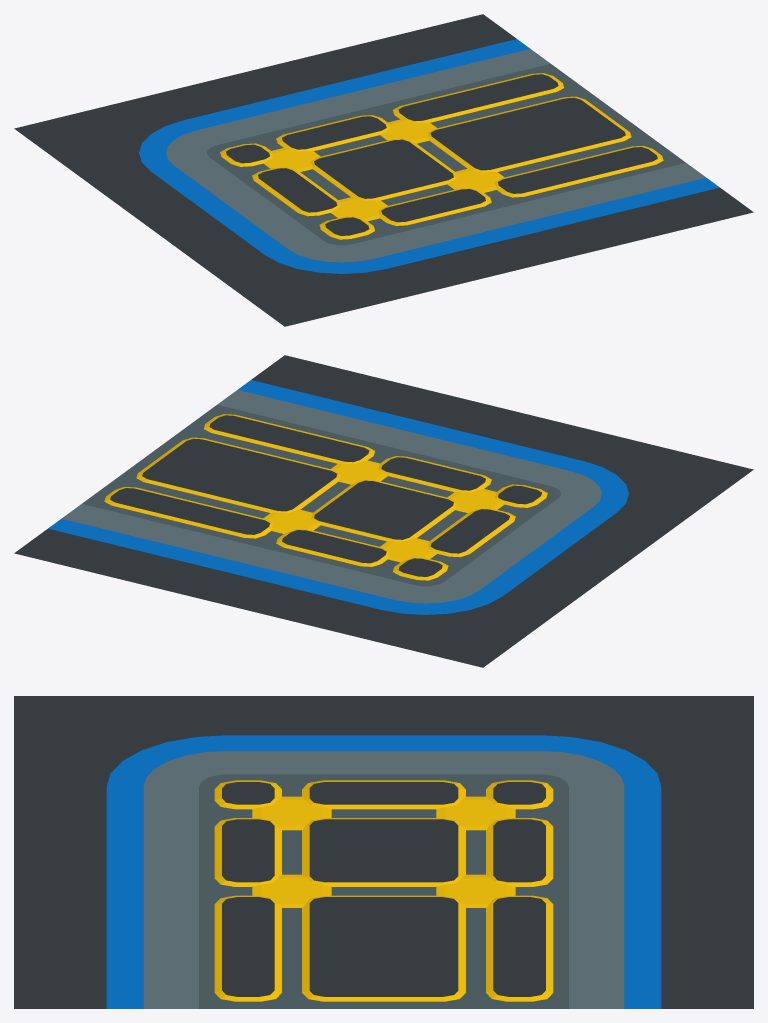
File: Floor_type_C_018.glb
The picture shows the model from 3 angles, top to bottom: view 1: azimuth 30°, elevation 25°; view 2: azimuth 150°, elevation 25°; view 3: azimuth 270°, elevation 25°; orthographic projection. The views are drawn at different scales.
Parts seen in each view (by area): view 1: Floor_type_C_018; view 2: Floor_type_C_018; view 3: Floor_type_C_018.
Boxes of the visible parts, <box> form: Floor_type_C_018: <box>14,14,753,326</box>; Floor_type_C_018: <box>14,355,753,667</box>; Floor_type_C_018: <box>14,696,753,1008</box>.
Bounding box in the file's own units: 4 × 0.0134 × 4.
Materials: 2 (2 with a texture image).
